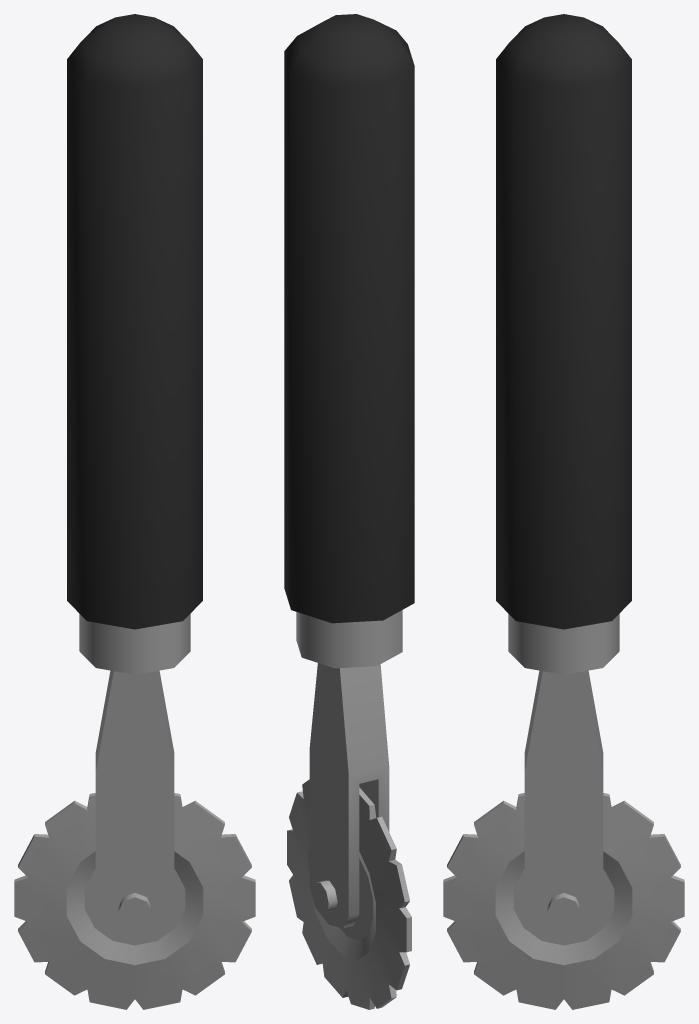
The model's file is Pastrycutter_01.fbx.
3 renders of one model, left to right at view 1: azimuth 90°, elevation 25°; view 2: azimuth 210°, elevation 25°; view 3: azimuth 270°, elevation 25°, orthographic.
Visible parts, largest first — view 1: Pastrycutter_01, Pastrycutter_01_RollingBit; view 2: Pastrycutter_01, Pastrycutter_01_RollingBit; view 3: Pastrycutter_01, Pastrycutter_01_RollingBit.
Boxes of the visible parts, <box> form: Pastrycutter_01: <box>67,14,202,937</box>; Pastrycutter_01_RollingBit: <box>14,793,255,1009</box>; Pastrycutter_01: <box>284,14,414,927</box>; Pastrycutter_01_RollingBit: <box>287,779,411,1009</box>; Pastrycutter_01: <box>496,14,631,937</box>; Pastrycutter_01_RollingBit: <box>443,793,684,1009</box>.
Bounding box in the file's own units: 0.0208 × 0.1656 × 0.0369.
